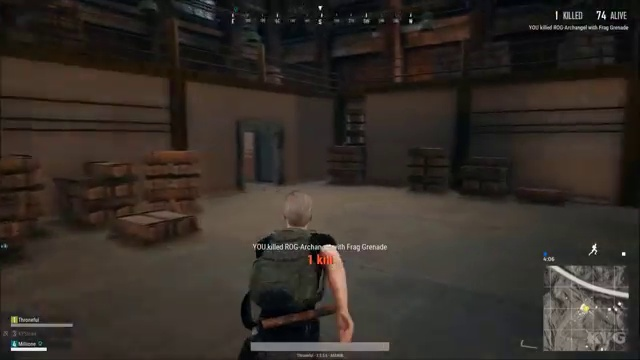Player: (211, 180, 410, 319)
